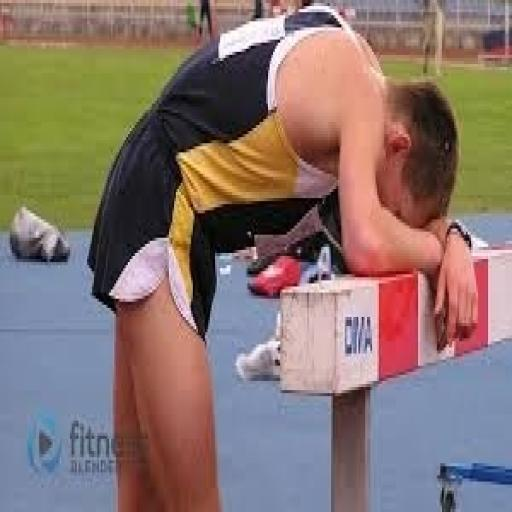running: (86, 3, 482, 509)
